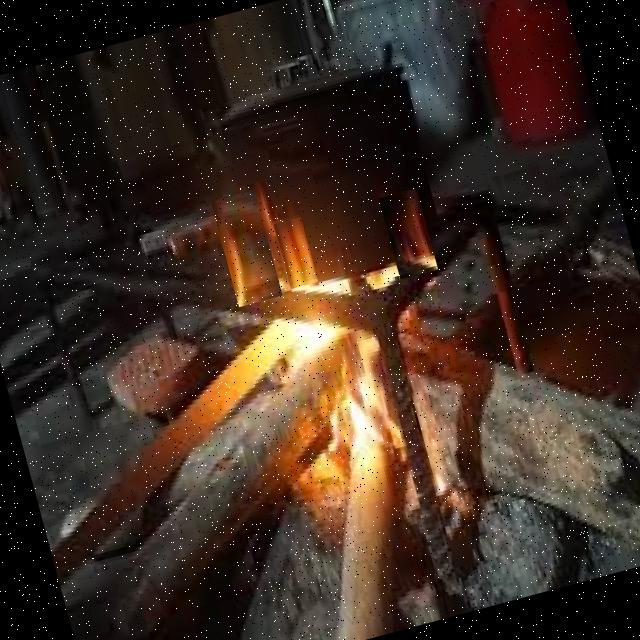fire: (210, 189, 282, 307), (378, 188, 438, 280), (274, 217, 318, 292)
